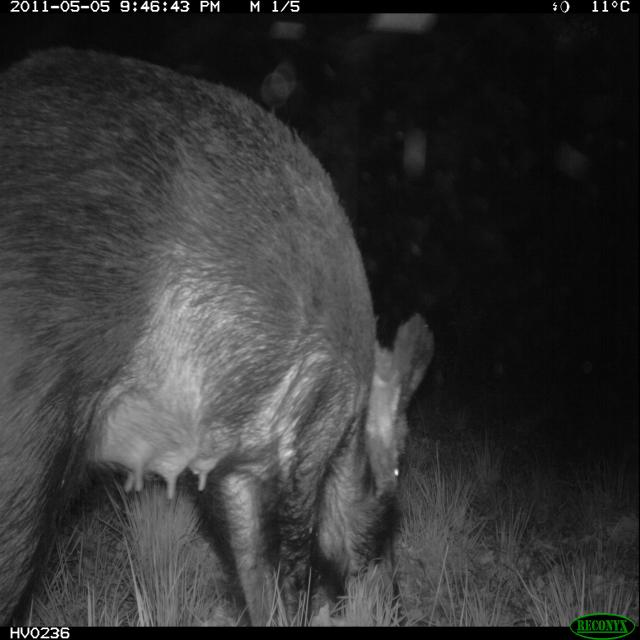boar: (0, 12, 450, 640)
